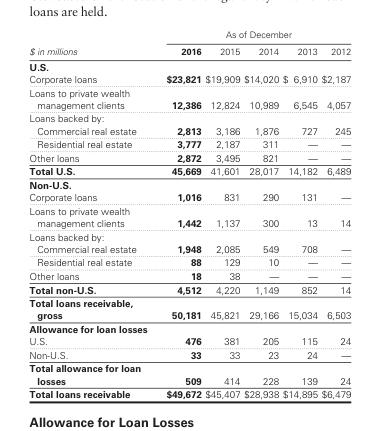table: (28, 28, 350, 399)
table column: (28, 28, 152, 399), (152, 28, 202, 399), (202, 28, 241, 399), (241, 28, 280, 399), (280, 28, 318, 399), (318, 28, 350, 399)
table column header: (28, 28, 350, 58)
table projected row header: (28, 58, 350, 72), (28, 111, 350, 124), (28, 177, 350, 190), (28, 229, 350, 242), (28, 321, 350, 334)
table row: (28, 85, 350, 111), (28, 203, 350, 229), (28, 361, 350, 387), (28, 296, 350, 321), (28, 42, 350, 58), (28, 28, 350, 42), (28, 58, 350, 72), (28, 150, 350, 164), (28, 268, 350, 282), (28, 282, 350, 296), (28, 347, 350, 361), (28, 72, 350, 85), (28, 111, 350, 124), (28, 124, 350, 137), (28, 137, 350, 150), (28, 164, 350, 177), (28, 177, 350, 190), (28, 190, 350, 203), (28, 229, 350, 242), (28, 242, 350, 255), (28, 255, 350, 268), (28, 321, 350, 334), (28, 334, 350, 347), (28, 387, 350, 399)
table spanning cell: (28, 28, 152, 58), (152, 28, 350, 42)
